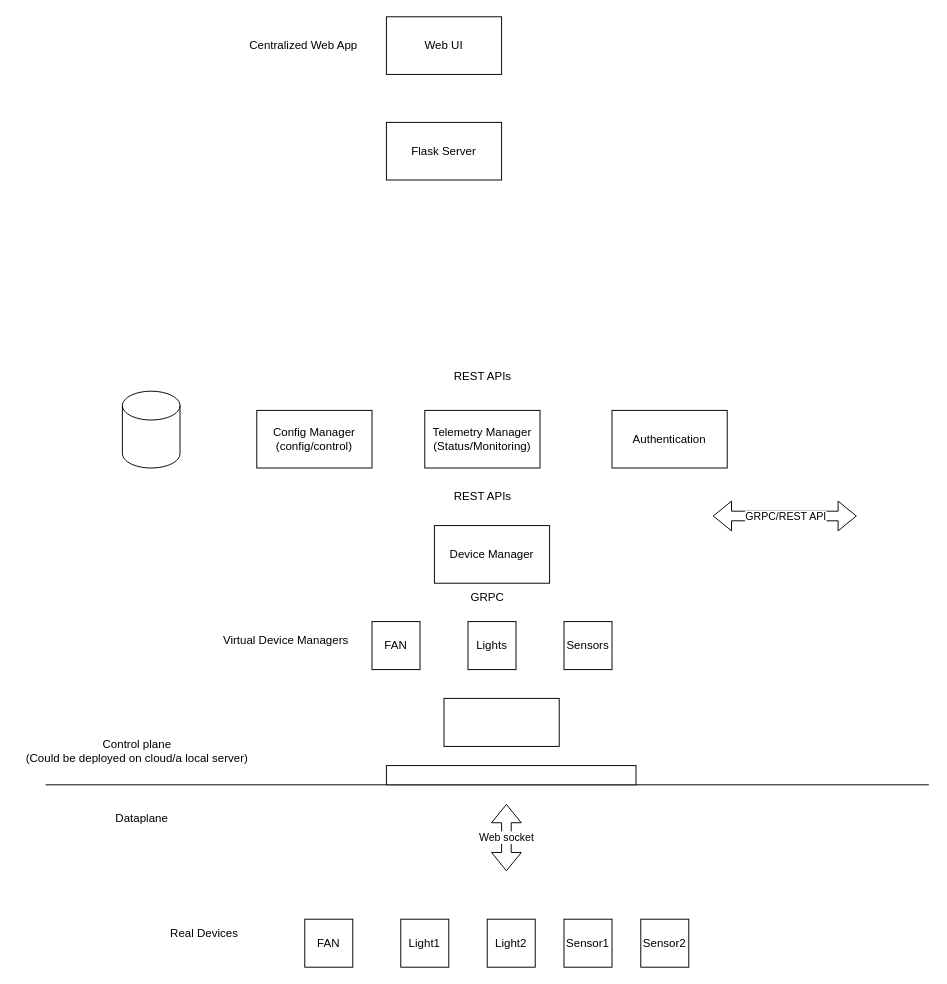
Image size: 947x984. Some labels were removed from this diagram. The shapes that lost their labels are listed below. From the top down, each one's centre as x and y in pixels, then its label:
At point 150,429: "DB (Postgres)".
At point 501,721: "Context Manager".
At point 510,775: "NGINX".
